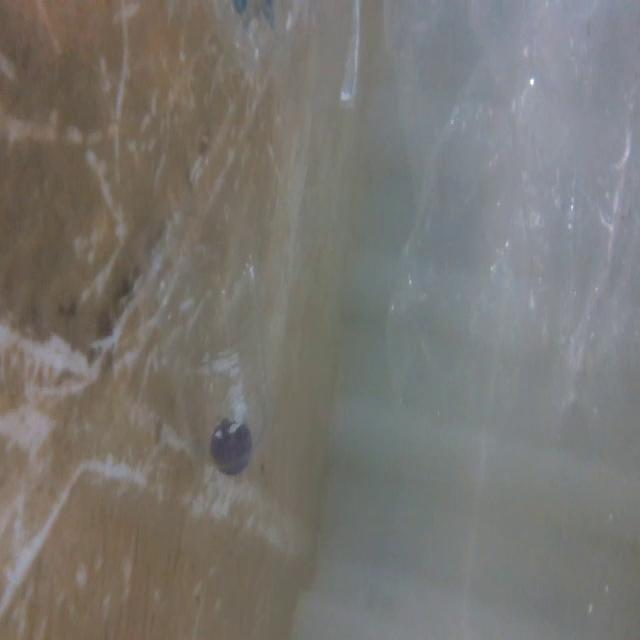plastic bags: (386, 0, 639, 448), (183, 0, 370, 151)
plastic bottle: (140, 196, 270, 492)
